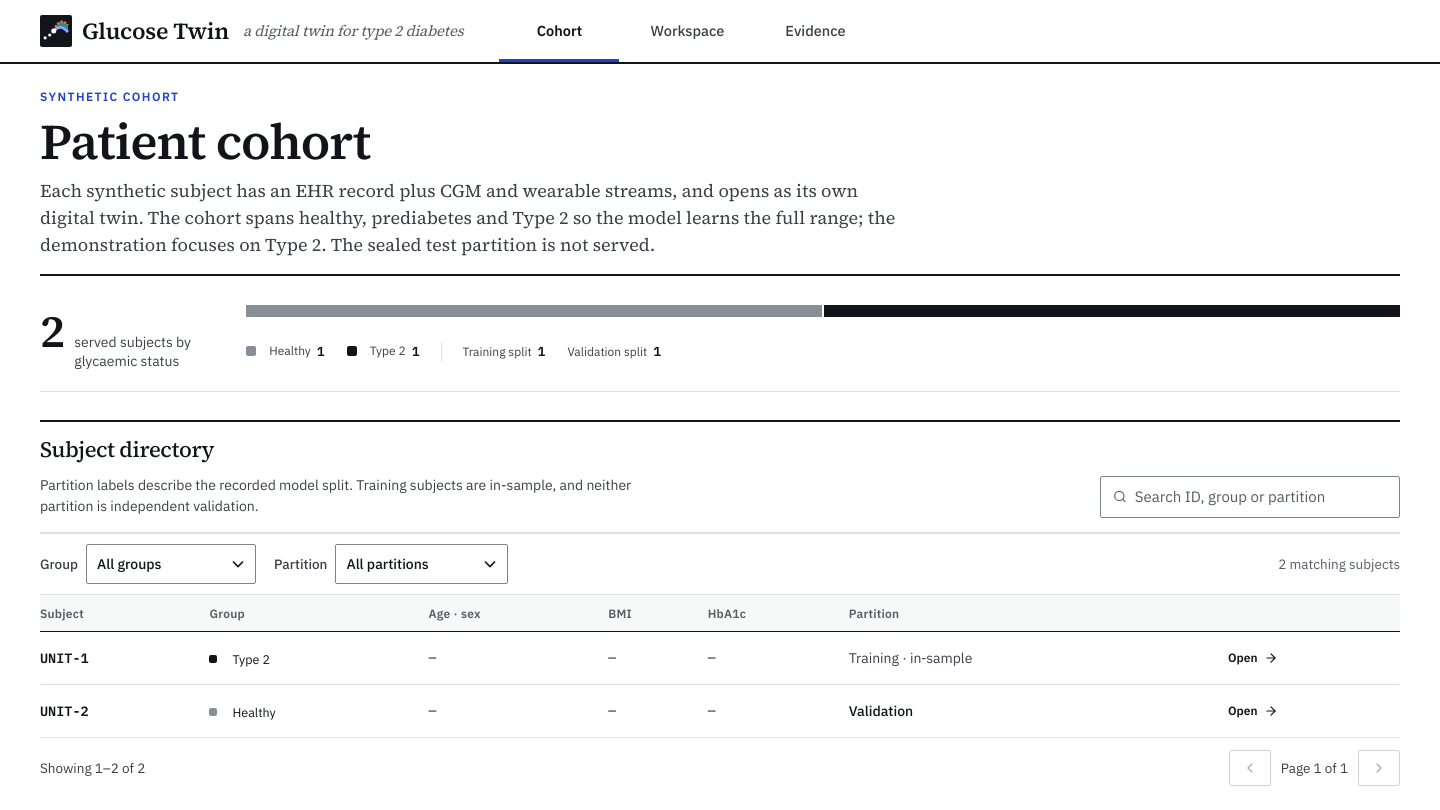
Test case: Group and Partition filter dropdowns — accessibility and filter behavior › does not display skeletons for local search or filtering
The image size is (1440, 810).
Expected: the link with aria-label "Open subject UNIT-1" is shown, [1228,650,1278,665]
// Perform local filtering
Type "NONEXISTENT" into the search field named "Search subjects" at (1261, 497), box [1135,477,1387,517]
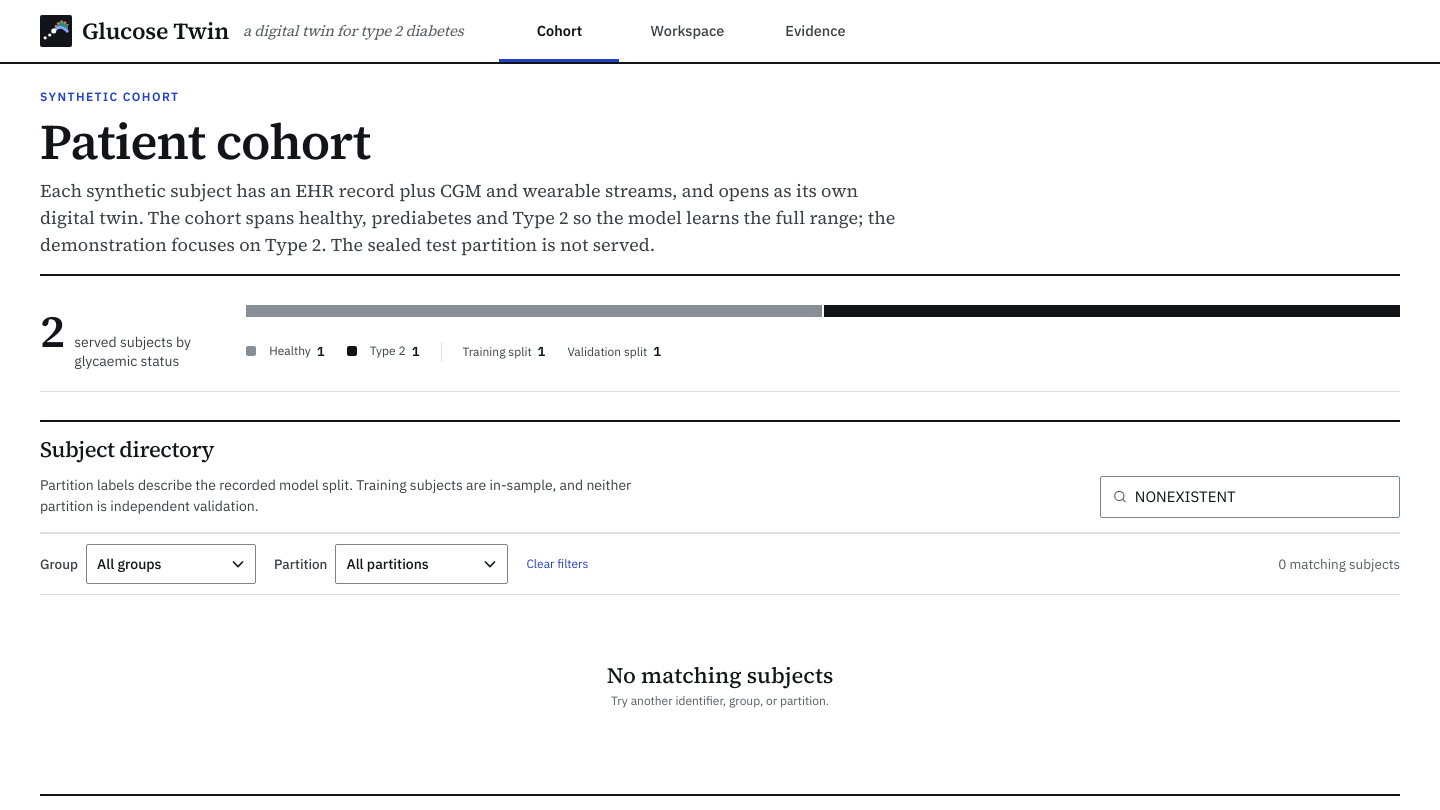
Now the heading "No matching subjects" is shown, box [607,660,833,690]
